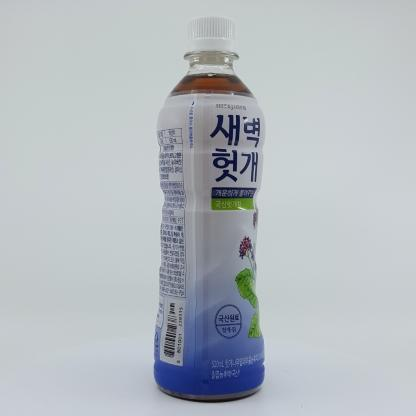---------520ML: (153, 15, 266, 401)
